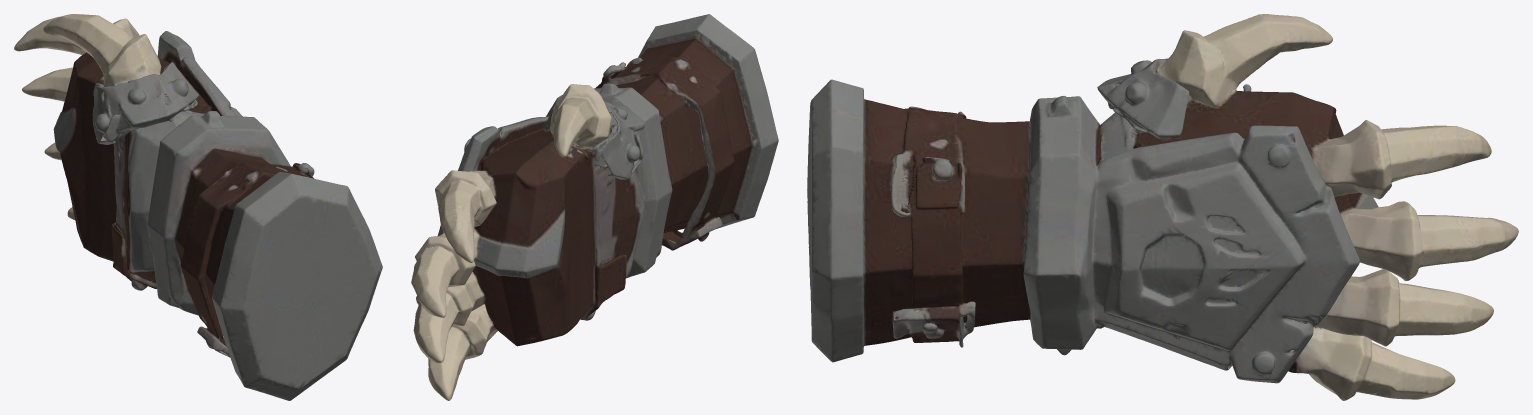
Rendered from w_bearclaw.glb.
3 views of the same model, side by side, from view 1: azimuth 30°, elevation 25°; view 2: azimuth 150°, elevation 25°; view 3: azimuth 270°, elevation 25° (orthographic). The views are drawn at different scales.
Parts seen in each view (by area): view 1: tripo_node_a332106d-f6eb-4646-bf7b-d53aabfc6928; view 2: tripo_node_a332106d-f6eb-4646-bf7b-d53aabfc6928; view 3: tripo_node_a332106d-f6eb-4646-bf7b-d53aabfc6928.
Boxes of the visible parts, left/top/right/bottom form: tripo_node_a332106d-f6eb-4646-bf7b-d53aabfc6928: left=14, top=14, right=382, bottom=400; tripo_node_a332106d-f6eb-4646-bf7b-d53aabfc6928: left=411, top=14, right=778, bottom=400; tripo_node_a332106d-f6eb-4646-bf7b-d53aabfc6928: left=807, top=14, right=1518, bottom=400.
Size of the model in its own units: 0.3489 by 0.5236 by 1.
1 material, 1 textured.
